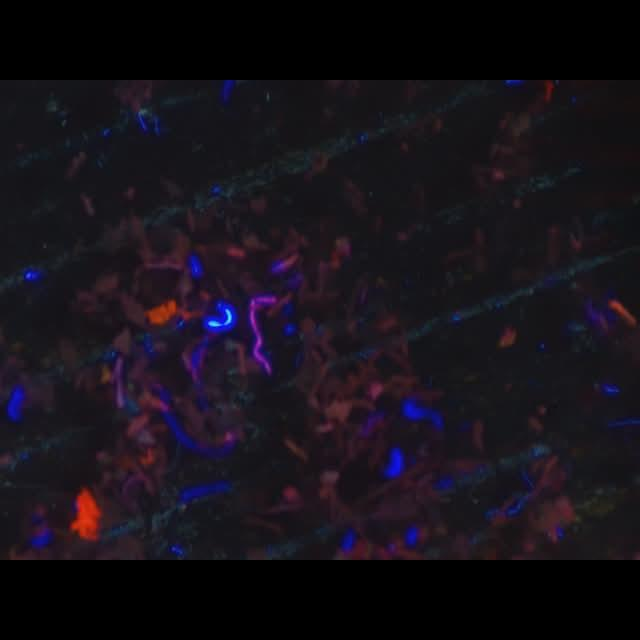Fragment: (70, 488, 102, 542)
